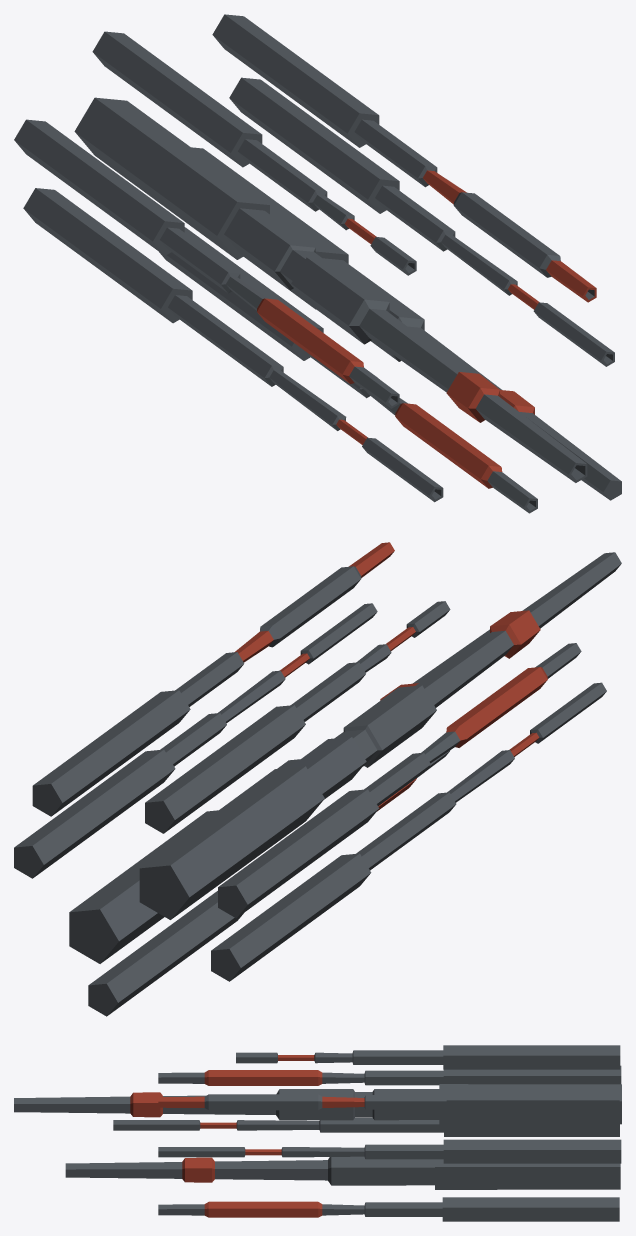
Rendered from Dropship_05_Artillery_Red.fbx.
3 views of the same model, one above another, from view 1: azimuth 30°, elevation 25°; view 2: azimuth 150°, elevation 25°; view 3: azimuth 270°, elevation 25° (orthographic). The views are drawn at different scales.
Visible parts, largest first — view 1: Dropship_05_Artillery_Red; view 2: Dropship_05_Artillery_Red; view 3: Dropship_05_Artillery_Red.
Part boxes in pixels (x1,y1,x2,y2): Dropship_05_Artillery_Red: [14, 14, 621, 513]; Dropship_05_Artillery_Red: [14, 542, 621, 1016]; Dropship_05_Artillery_Red: [14, 1045, 621, 1221].
Bounding box in the file's own units: 197 × 185 × 657.
1 material, 1 textured.
